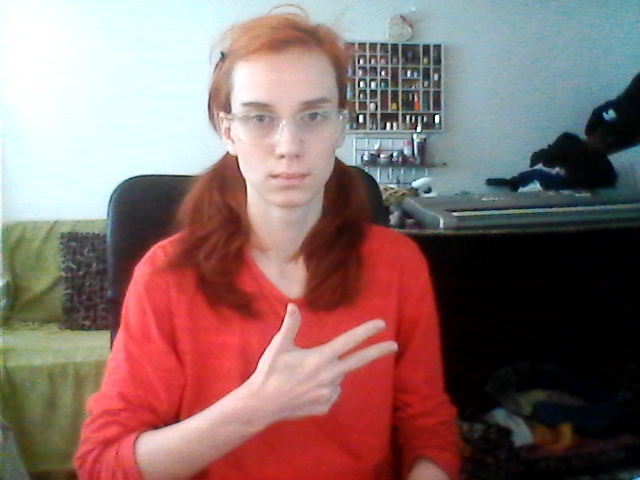tri: (251, 300, 403, 419)
